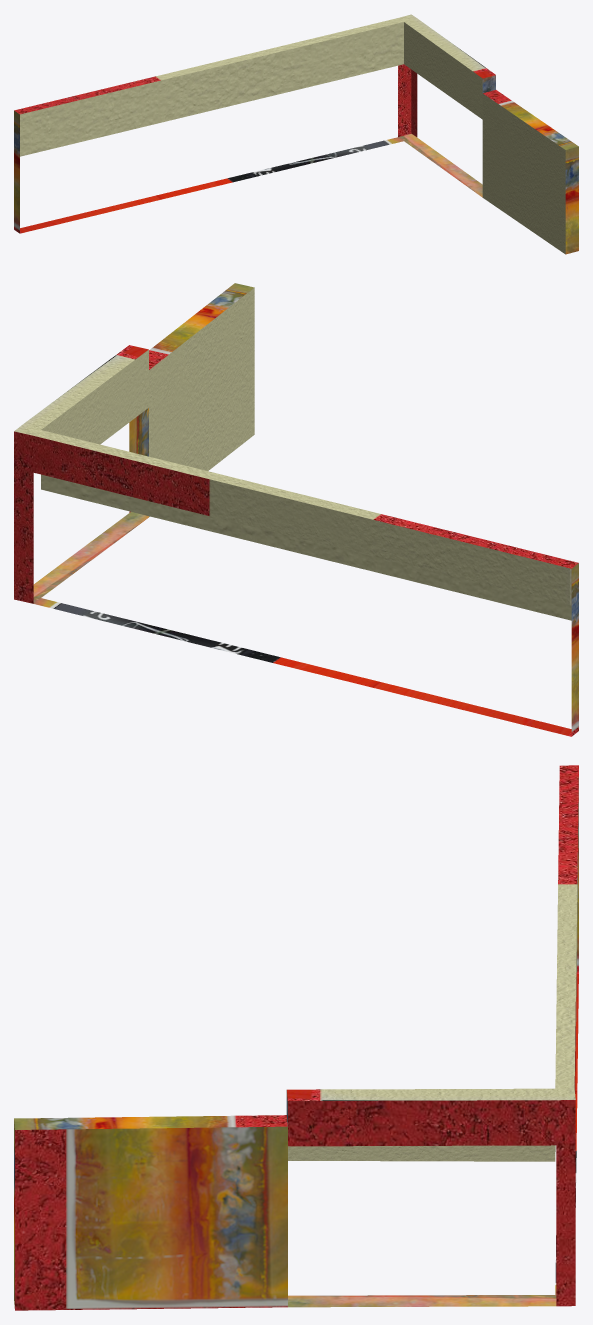
File: south_bar_wall.fbx
3 views of the same model, one above another, from view 1: azimuth 30°, elevation 25°; view 2: azimuth 150°, elevation 25°; view 3: azimuth 270°, elevation 25° (orthographic). The views are drawn at different scales.
Visible parts, largest first — view 1: south_bar_wall; view 2: south_bar_wall; view 3: south_bar_wall.
Boxes of the visible parts, box(x1,y1,x2,y2) form: south_bar_wall: box(14, 14, 578, 254); south_bar_wall: box(14, 283, 578, 736); south_bar_wall: box(14, 765, 578, 1310).
Size of the model in its own units: 21.64 by 6.13 by 15.23.
Materials: 1 (1 with a texture image).
